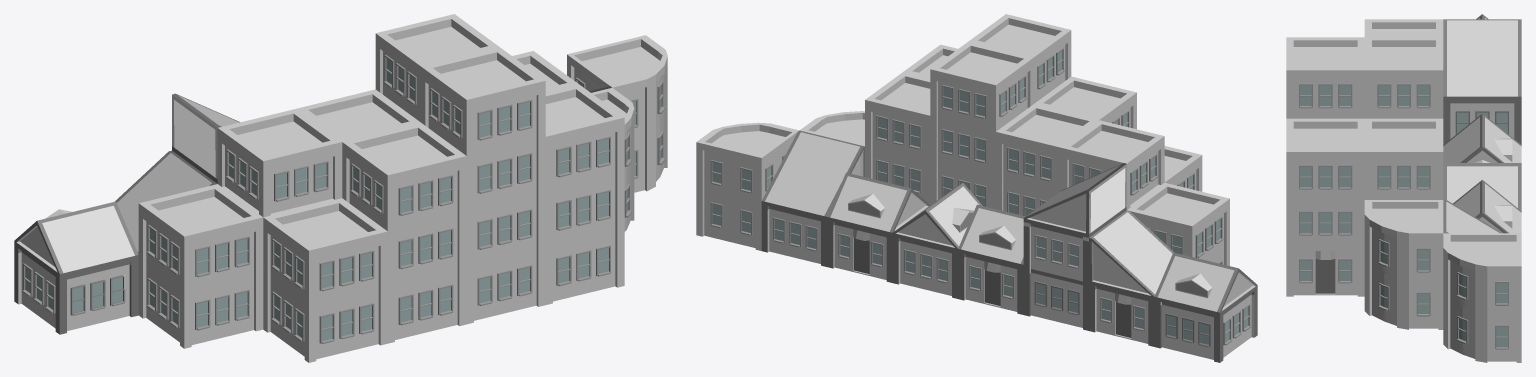
The model's file is BuildingGroup_0.fbx.
3 views of the same model, side by side, from view 1: azimuth 30°, elevation 25°; view 2: azimuth 150°, elevation 25°; view 3: azimuth 270°, elevation 25° (orthographic). The views are drawn at different scales.
Visible parts, largest first — view 1: BuildingGroup_; view 2: BuildingGroup_; view 3: BuildingGroup_.
Part boxes in pixels (x1,y1,x2,y2): BuildingGroup_: (14,14,667,362); BuildingGroup_: (696,14,1257,362); BuildingGroup_: (1286,14,1521,362).
Bounding box in the file's own units: 640 × 217 × 240.
